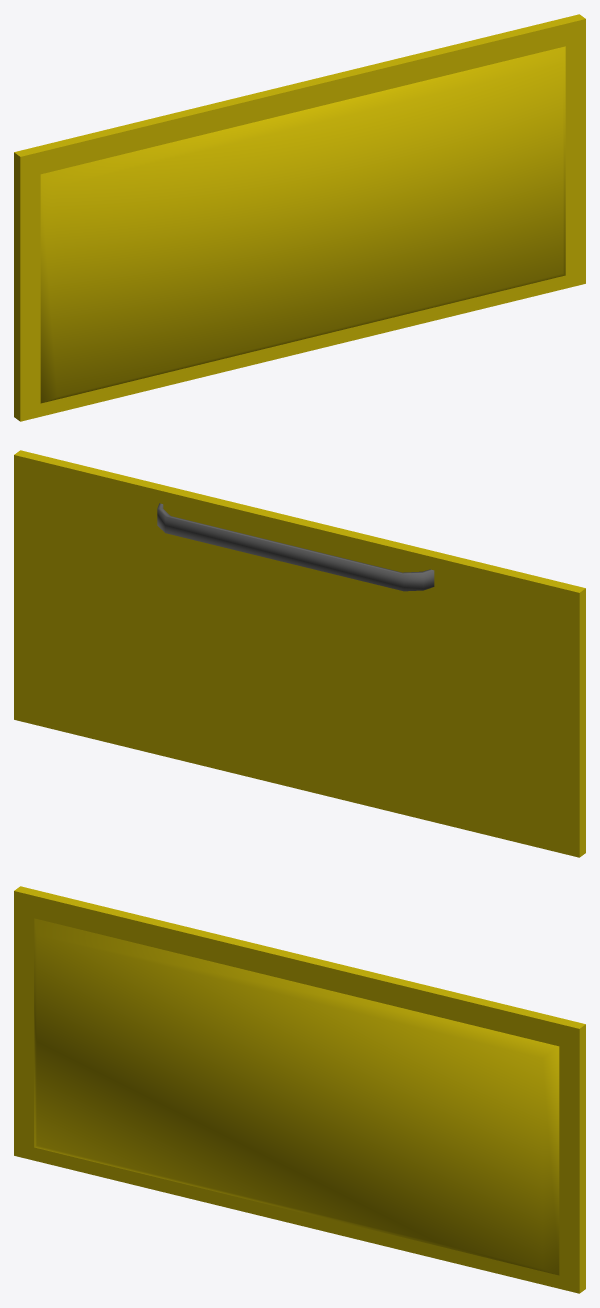
The model's file is SNWP_MOD_BUN_Oven_door_02.fbx.
The picture shows the model from 3 angles, top to bottom: view 1: azimuth 30°, elevation 25°; view 2: azimuth 150°, elevation 25°; view 3: azimuth 330°, elevation 25°; orthographic projection.
Visible parts, largest first — view 1: SNWP_MOD_Bunker_oven_door_02; view 2: SNWP_MOD_Bunker_oven_door_02; view 3: SNWP_MOD_Bunker_oven_door_02.
Boxes of the visible parts, x1,y1,x2,y2 form: SNWP_MOD_Bunker_oven_door_02: (14, 14, 585, 421); SNWP_MOD_Bunker_oven_door_02: (14, 450, 585, 857); SNWP_MOD_Bunker_oven_door_02: (14, 886, 585, 1293).
Size of the model in its own units: 0.5165 by 0.2311 by 0.0404.
